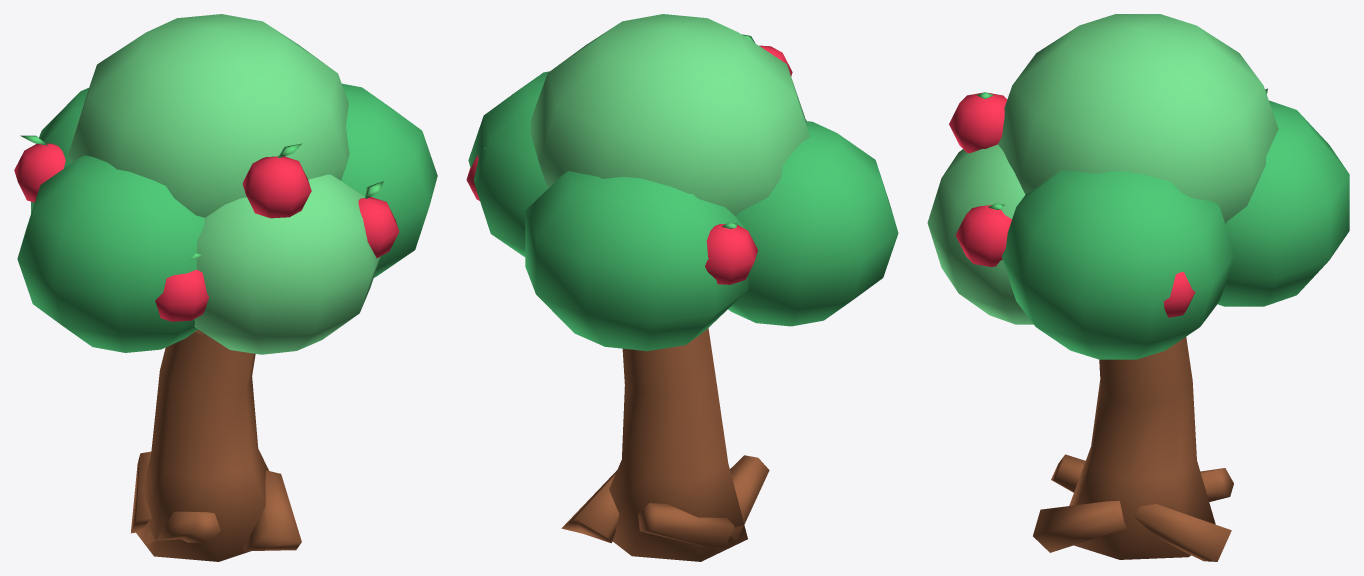
The model's file is apple_tree.glb.
3 views of the same model, side by side, from view 1: azimuth 30°, elevation 25°; view 2: azimuth 150°, elevation 25°; view 3: azimuth 270°, elevation 25° (orthographic).
Visible parts, largest first — view 1: apple_tree, CanopyApples; view 2: apple_tree, CanopyApples; view 3: apple_tree, CanopyApples.
Boxes of the visible parts, x1,y1,x2,y2 form: apple_tree: (17,14,437,561); CanopyApples: (14,135,399,321); apple_tree: (468,14,898,561); CanopyApples: (466,34,792,284); apple_tree: (927,14,1349,561); CanopyApples: (949,88,1267,317).
Size of the model in its own units: 1.38 by 1.7 by 1.27.
